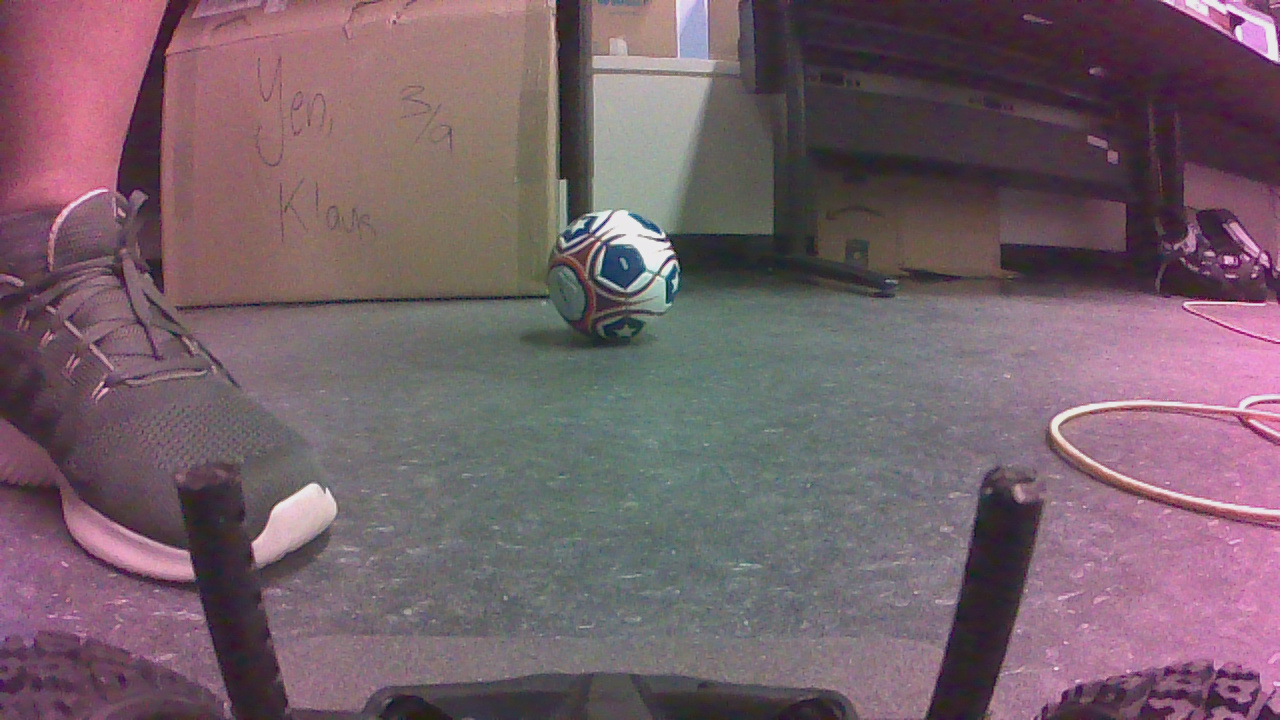ball: (553, 214, 686, 351)
